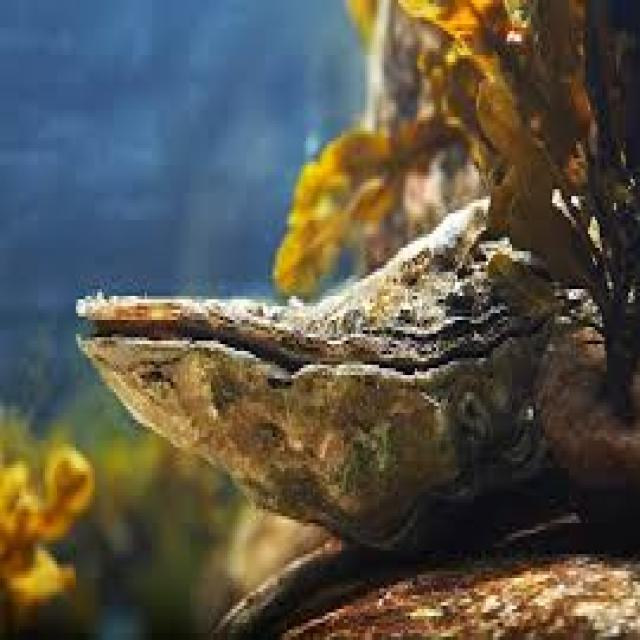Oyster- Indeterminate: (209, 534, 639, 640)
Oyster-Closed: (77, 214, 543, 549)
